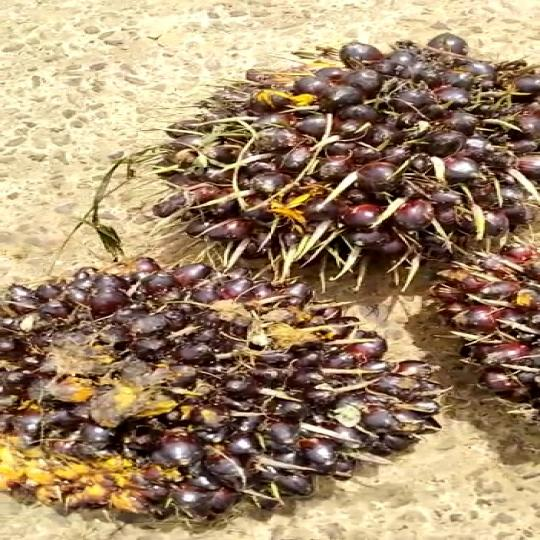kurang masak: (0, 258, 481, 514), (96, 33, 540, 294)
